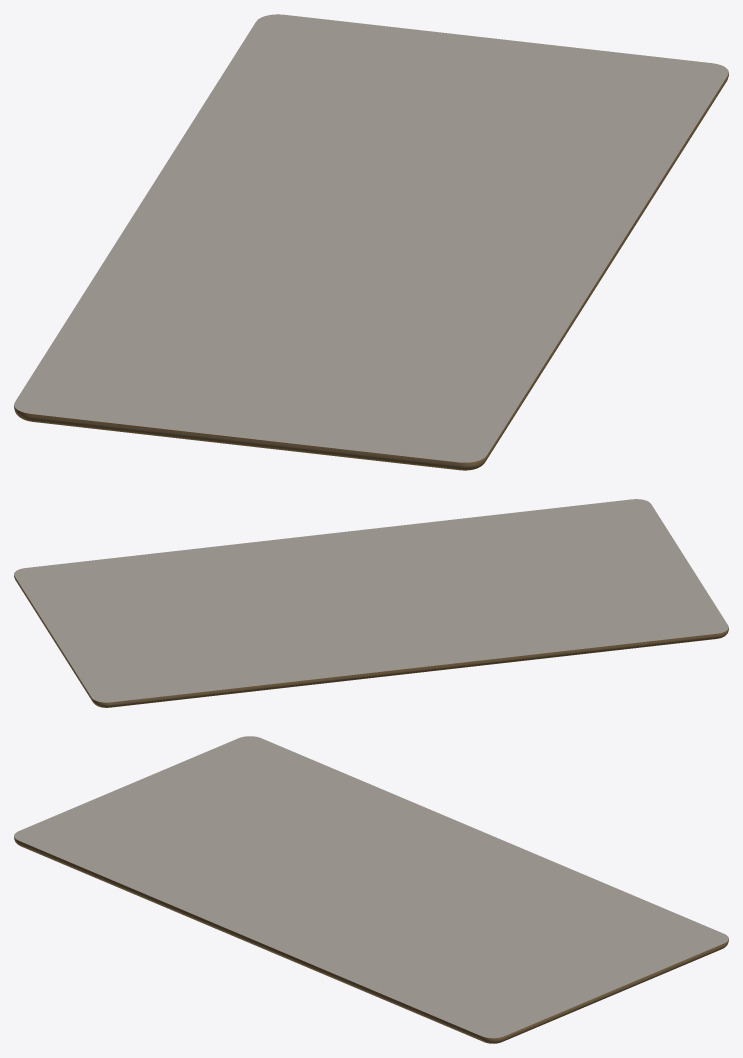
File: diningtable_0207_top.glb
The picture shows the model from 3 angles, top to bottom: view 1: azimuth 30°, elevation 25°; view 2: azimuth 150°, elevation 25°; view 3: azimuth 270°, elevation 25°; orthographic projection. The views are drawn at different scales.
Visible parts, largest first — view 1: diningtable_0207_top; view 2: diningtable_0207_top; view 3: diningtable_0207_top.
Part boxes in pixels (<box>): diningtable_0207_top: <box>14,14,728,470</box>; diningtable_0207_top: <box>14,499,728,707</box>; diningtable_0207_top: <box>14,736,728,1043</box>.
Size of the model in its own units: 1.66 by 0.0202 by 1.66.
Materials: 1 (1 with a texture image).
